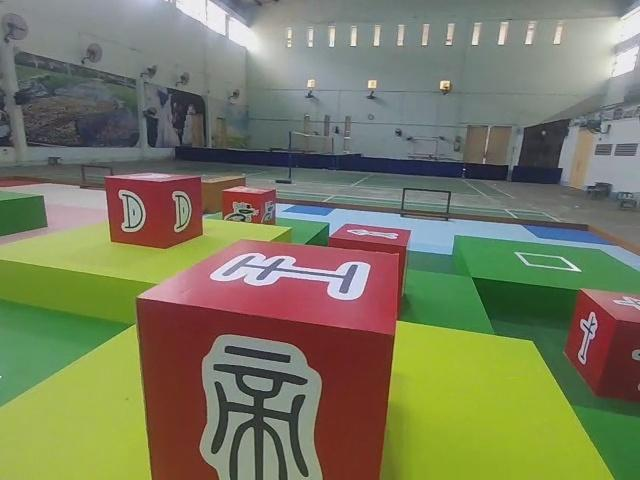R1: (219, 182, 277, 227)
R2 Fake: (132, 239, 402, 480)
R2 Real: (563, 285, 640, 403), (102, 170, 206, 251)
